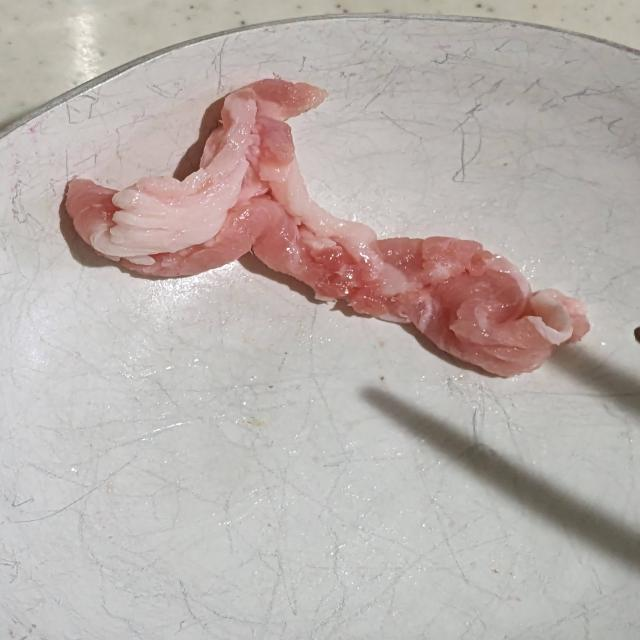NG raw pork,: (54, 73, 595, 384)
